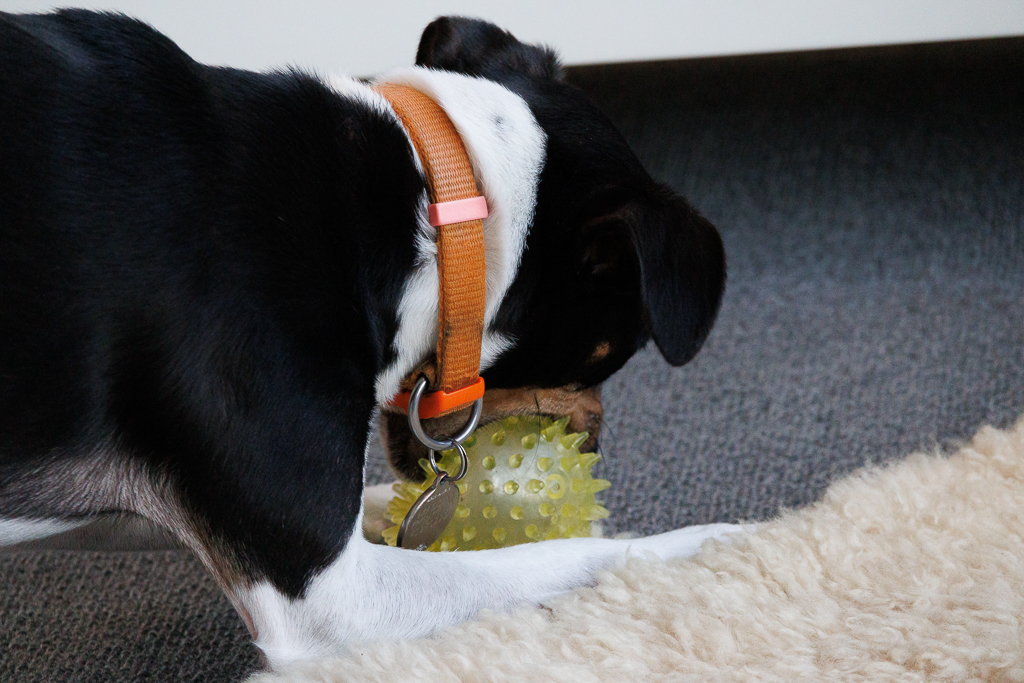Dog: (0, 4, 788, 678)
